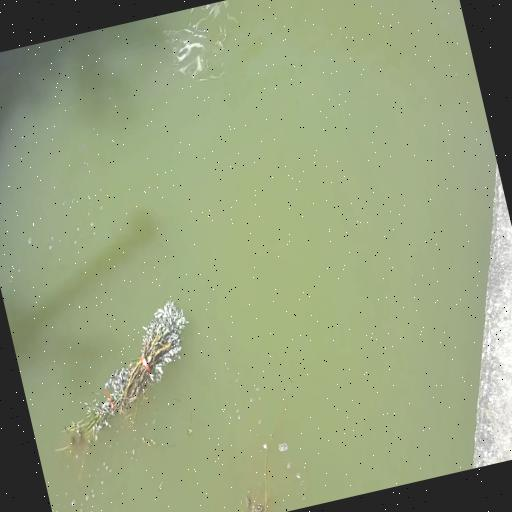twig: (65, 301, 188, 449), (242, 444, 269, 512), (273, 380, 291, 431)
